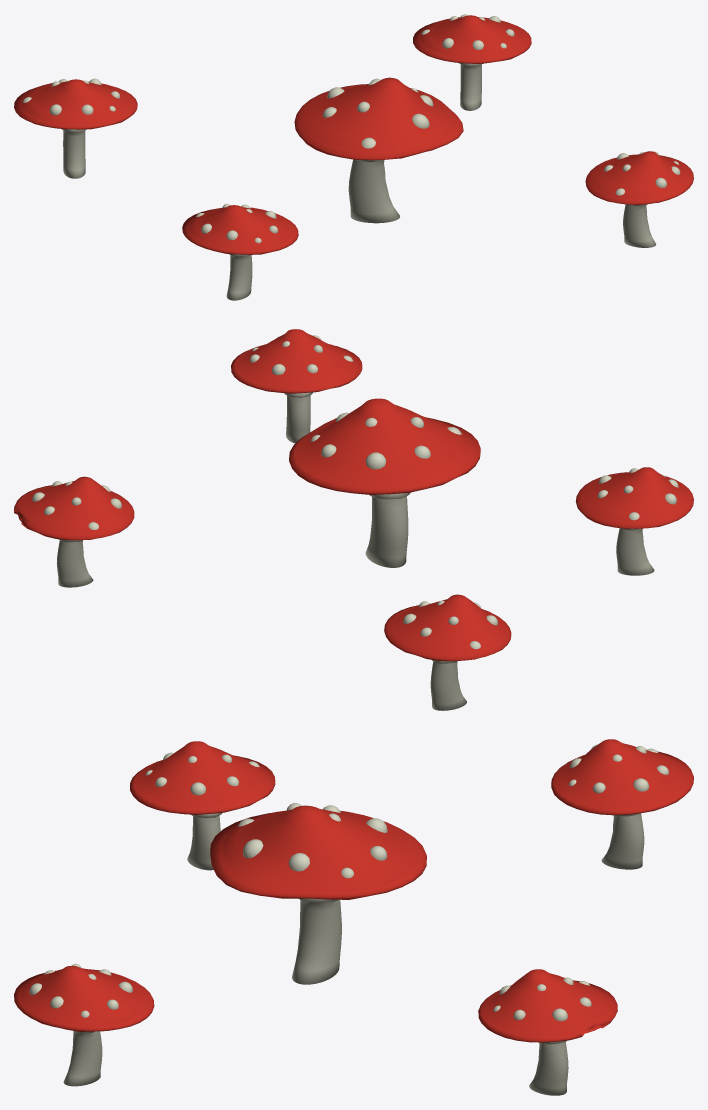
File: mantar-1.fbx
3 views of the same model, one above another, from view 1: azimuth 30°, elevation 25°; view 2: azimuth 150°, elevation 25°; view 3: azimuth 270°, elevation 25° (orthographic). The views are drawn at different scales.
Parts seen in each view (by area): view 1: mantar.002; view 2: mantar.002; view 3: mantar.002.
Boxes of the visible parts, x1,y1,x2,y2 form: mantar.002: [14, 14, 693, 300]; mantar.002: [14, 329, 693, 710]; mantar.002: [14, 739, 693, 1095].
Size of the model in its own units: 71.4 by 19.96 by 71.14.
